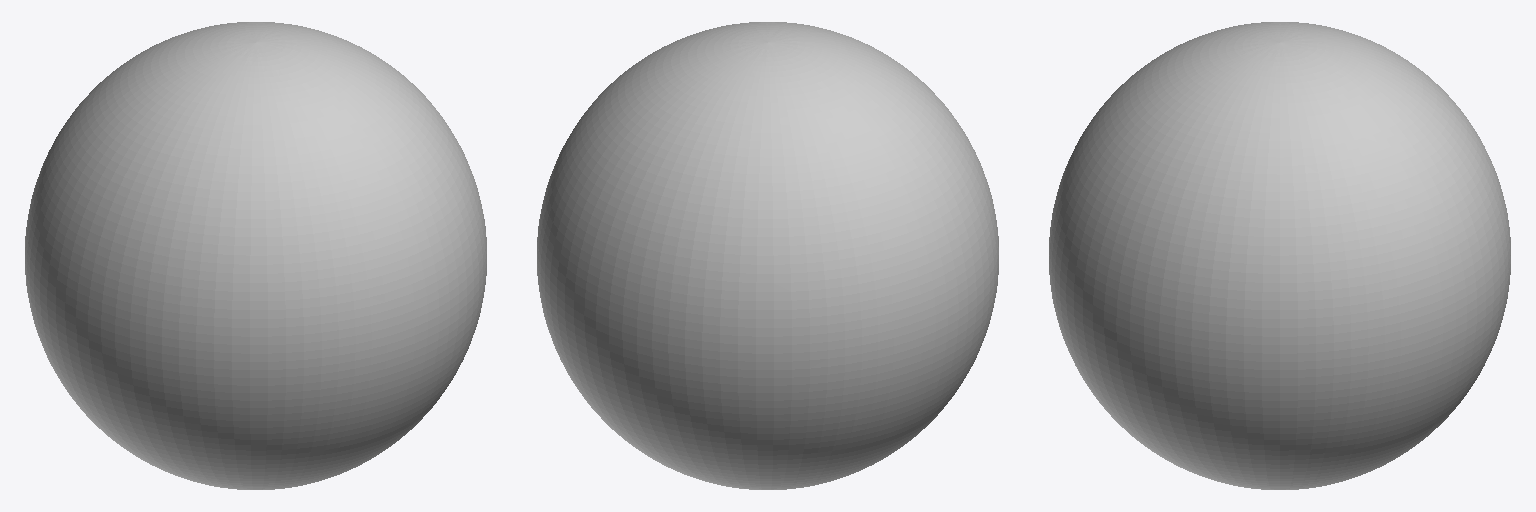
Rendered from f_knee.obj.
The picture shows the model from 3 angles: view 1: azimuth 30°, elevation 25°; view 2: azimuth 150°, elevation 25°; view 3: azimuth 270°, elevation 25°; orthographic projection.
Visible parts, largest first — view 1: pSphere8; view 2: pSphere8; view 3: pSphere8.
Boxes of the visible parts, x1=… form: pSphere8: x1=25, y1=22, x2=486, y2=489; pSphere8: x1=537, y1=22, x2=998, y2=489; pSphere8: x1=1049, y1=22, x2=1510, y2=489.
Size of the model in its own units: 0.468 by 0.4764 by 0.468.